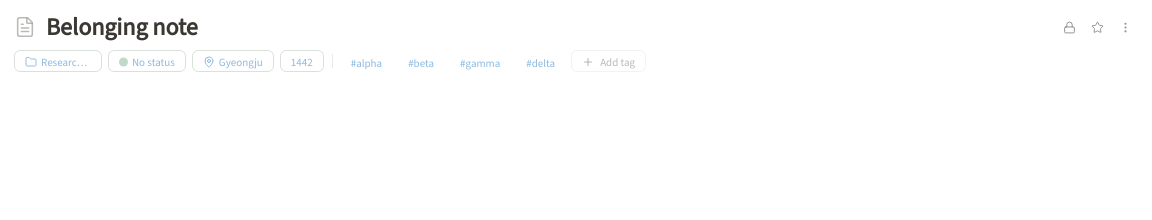
Test: TitleBar 더보기 메뉴 — 이름바꾸기 제거 + 내용잠금 › content_locked=true면 내용잠금 항목이 '해제'로 바뀌고 가져오기는 비활성 + 이유 툴팁을 보여준다
Click the button named "More" at (1125, 27), box [1112, 14, 1138, 40]
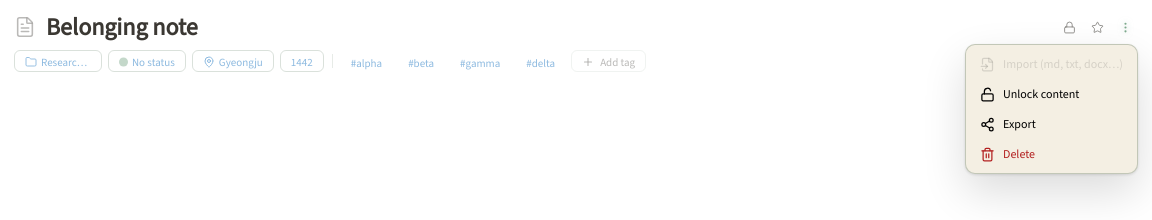
Expected: the button with test id "titlebar-menu-content-lock" reads "Unlock content", [970, 80, 1133, 108]
Expected: the button with test id "titlebar-menu-import" is disabled, [970, 50, 1133, 78]
